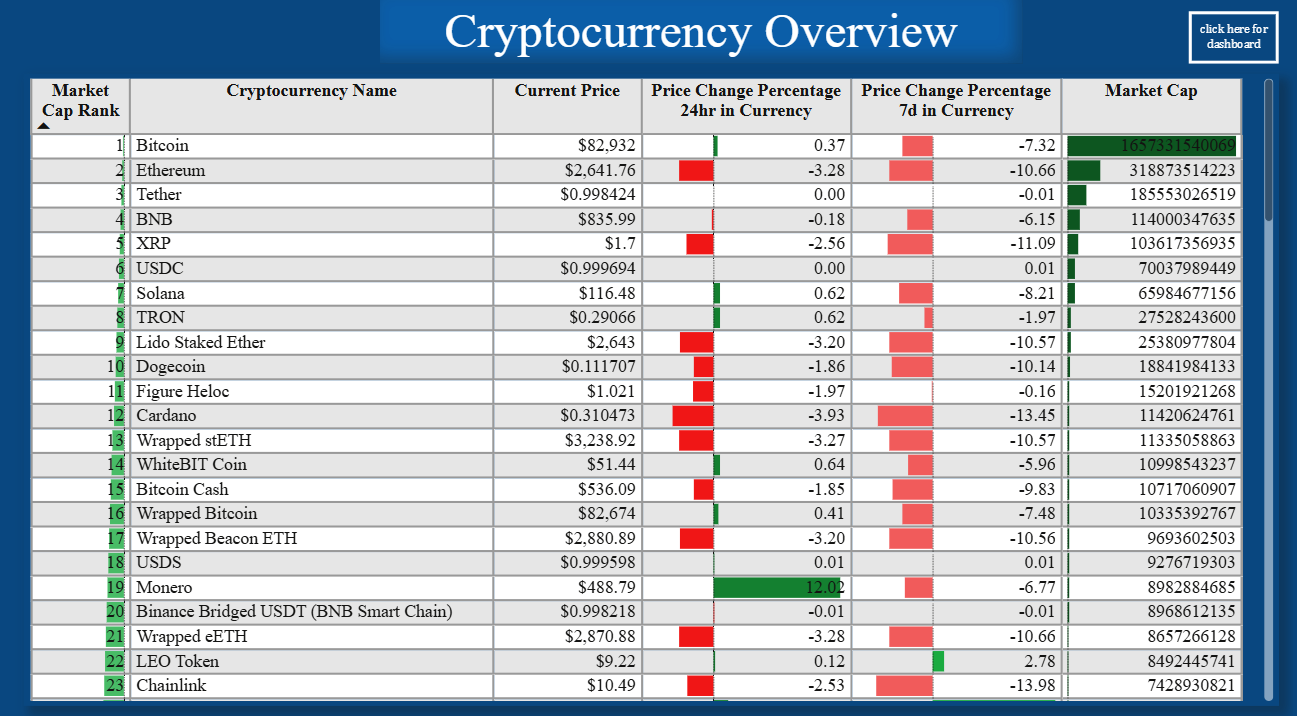

The page's visual inventory and layout, read from the dashboard file:
{"tool":"powerbi","page":{"name":"Cryptocurrency Overview","canvas":[1280,720],"ordinal":19},"visuals":[{"type":"tableEx","fields":{"Values":["Sum(markets?vs_currency=usd&order=market_cap_desc&per_page=100&page=1&price_change_p.market_cap_rank)","markets?vs_currency=usd&order=market_cap_desc&per_page=100&page=1&price_change_p.name","Sum(markets?vs_currency=usd&order=market_cap_desc&per_page=100&page=1&price_change_p.current_price)","Sum(markets?vs_currency=usd&order=market_cap_desc&per_page=100&page=1&price_change_p.price_change_percentage_24h_in_curr","Sum(markets?vs_currency=usd&order=market_cap_desc&per_page=100&page=1&price_change_p.price_change_percentage_7d_in_curre","Sum(markets?vs_currency=usd&order=market_cap_desc&per_page=100&page=1&price_change_p.market_cap)"]},"box":[33,86.8,1227.7,618.8],"z":0},{"type":"textbox","box":[381.5,12.2,628.5,64.8],"z":1000},{"type":"actionButton","box":[1172.7,25.7,88,51.4],"z":2000}]}

Visuals, with their boxes in screenshot pixels (x1, y1, x2, y2), scaled from the page's 1280x720 canvas onto the 1297x716 screenshot:
tableEx - Sum(markets?vs_currency=usd&order=market_cap_desc&per_page=100&page=1&price_change_p.market_cap_rank) x markets?vs_currency=usd&order=market_cap_desc&per_page=100&page=1&price_change_p.name: l=33, t=86, r=1277, b=702
textbox: l=387, t=12, r=1023, b=77
actionButton: l=1188, t=26, r=1277, b=77
